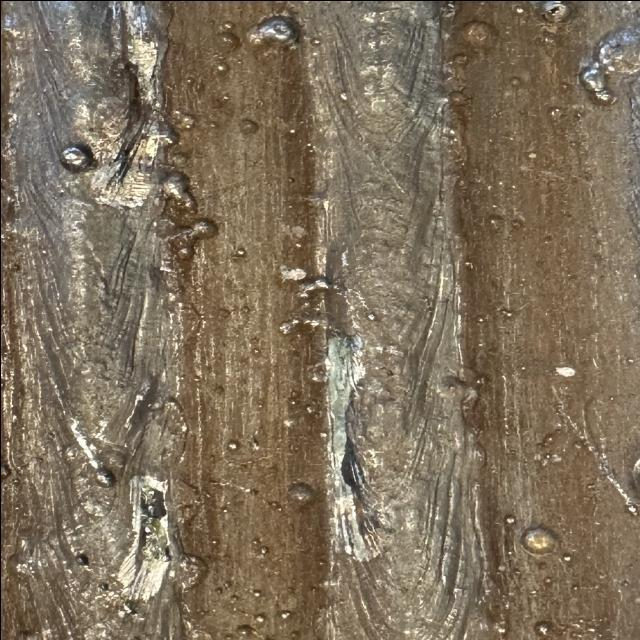Excess Reinforcement: (118, 0, 167, 114), (98, 111, 172, 185), (580, 26, 640, 102), (150, 395, 187, 478), (155, 238, 193, 300), (163, 218, 218, 258), (168, 294, 202, 355), (160, 170, 197, 225), (160, 170, 197, 224), (438, 366, 480, 410), (175, 552, 207, 590), (467, 429, 488, 484), (278, 312, 327, 332), (307, 360, 327, 381)
Spatters: (245, 15, 298, 44), (58, 142, 95, 172), (520, 526, 557, 554), (460, 21, 497, 46), (298, 275, 332, 295), (288, 481, 313, 504), (213, 31, 240, 50), (542, 0, 568, 19), (95, 466, 115, 488), (172, 110, 195, 128), (570, 618, 595, 634), (0, 449, 12, 482), (623, 500, 640, 520), (238, 119, 258, 135), (533, 621, 552, 634), (447, 91, 465, 104), (452, 52, 468, 65), (555, 366, 575, 376), (630, 457, 640, 476), (218, 20, 235, 31), (488, 215, 502, 228), (235, 624, 253, 634), (75, 554, 88, 566), (548, 106, 562, 116), (508, 76, 520, 86), (503, 515, 515, 524), (288, 631, 300, 640), (308, 36, 320, 45), (98, 581, 108, 591), (305, 402, 315, 412), (227, 440, 238, 449), (253, 614, 265, 622), (473, 314, 485, 322), (98, 582, 108, 591), (235, 247, 245, 256), (505, 549, 515, 558), (250, 438, 258, 449), (215, 62, 226, 70), (500, 308, 512, 315), (18, 538, 25, 550), (543, 576, 552, 585), (280, 610, 290, 618), (260, 545, 268, 555), (513, 4, 523, 12), (223, 580, 232, 588), (318, 430, 327, 438), (208, 121, 217, 128), (586, 482, 595, 489), (513, 6, 523, 12), (542, 454, 552, 460), (562, 554, 570, 561), (367, 312, 375, 319), (252, 589, 260, 596), (527, 151, 535, 158), (220, 94, 228, 100), (287, 176, 295, 182), (250, 538, 258, 544), (497, 564, 505, 570), (273, 506, 282, 511), (288, 398, 295, 404), (340, 92, 346, 99), (210, 539, 218, 544), (572, 584, 578, 590), (230, 596, 237, 601), (185, 77, 192, 82), (288, 128, 295, 132), (222, 508, 228, 512)
